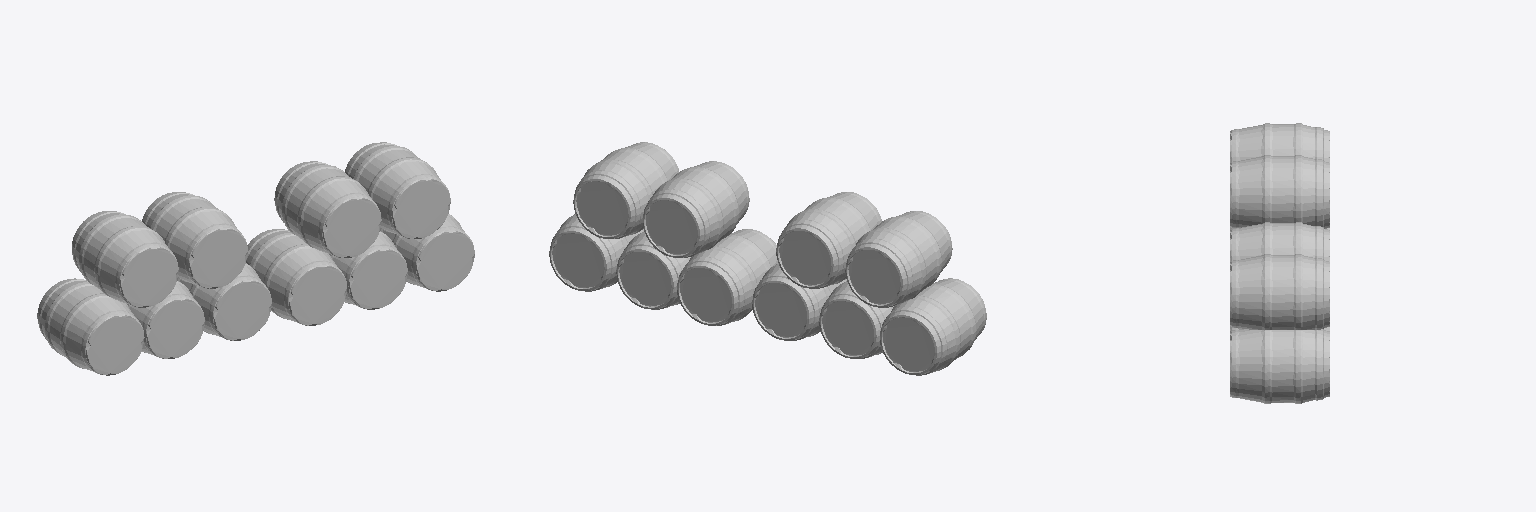
Rendered from barrelset.obj.
3 renders of one model, left to right at view 1: azimuth 30°, elevation 25°; view 2: azimuth 150°, elevation 25°; view 3: azimuth 270°, elevation 25°, orthographic.
Parts seen in each view (by area): view 1: Cylinder.002, Cylinder.001; view 2: Cylinder.002, Cylinder.001; view 3: Cylinder.001, Cylinder.002.
Part boxes in pixels (x1,y1,x2,y2): Cylinder.002: (37,192,271,375); Cylinder.001: (246,142,474,325); Cylinder.002: (752,192,986,375); Cylinder.001: (549,142,777,325); Cylinder.001: (1230,222,1329,403); Cylinder.002: (1230,123,1329,229).
Size of the model in its own units: 11.98 by 3.82 by 2.59.